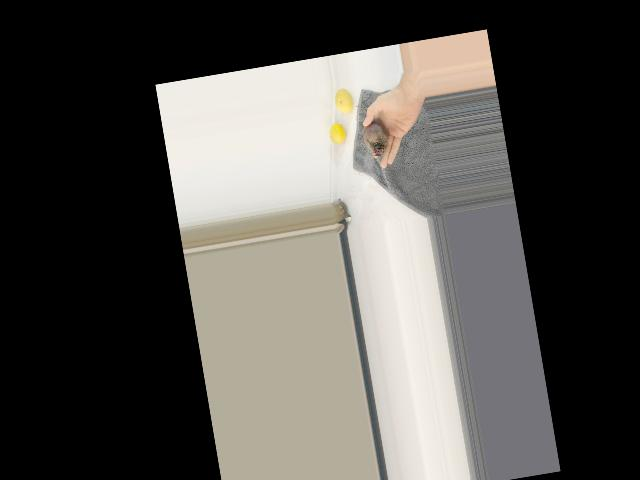beet: (355, 100, 391, 158)
